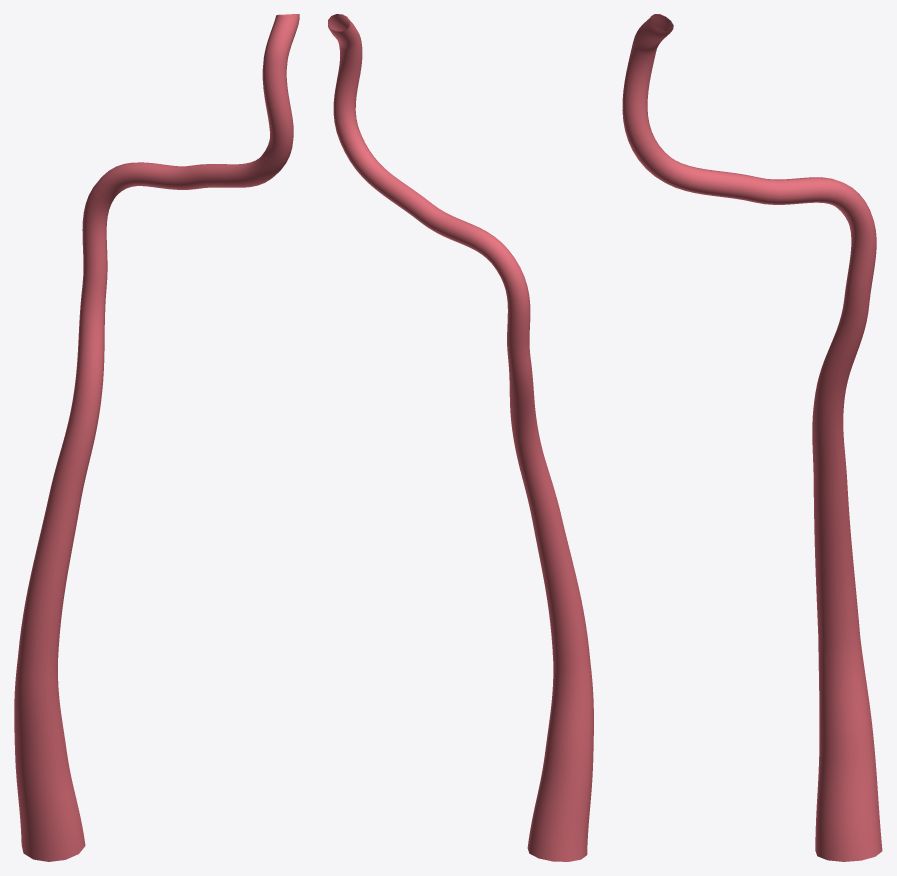
3 views of the same model, side by side, from view 1: azimuth 30°, elevation 25°; view 2: azimuth 210°, elevation 25°; view 3: azimuth 270°, elevation 25° (orthographic). The views are drawn at different scales.
Parts seen in each view (by area): view 1: ZA_bd73b4c09e74fdbe; view 2: ZA_bd73b4c09e74fdbe; view 3: ZA_bd73b4c09e74fdbe.
Part boxes in pixels (left/top/right/bottom): ZA_bd73b4c09e74fdbe: left=14, top=14, right=299, bottom=861; ZA_bd73b4c09e74fdbe: left=328, top=14, right=593, bottom=861; ZA_bd73b4c09e74fdbe: left=622, top=14, right=882, bottom=861.
Bounding box in the file's own units: 0.0277 × 0.1183 × 0.0306.
